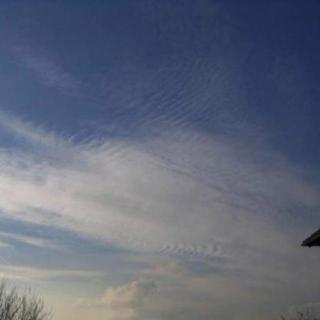Cirrocumulus: (0, 50, 314, 314)
